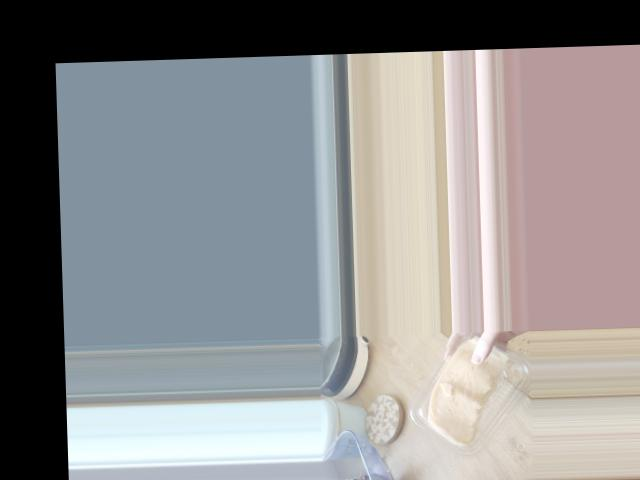cheese: (397, 339, 530, 472)
